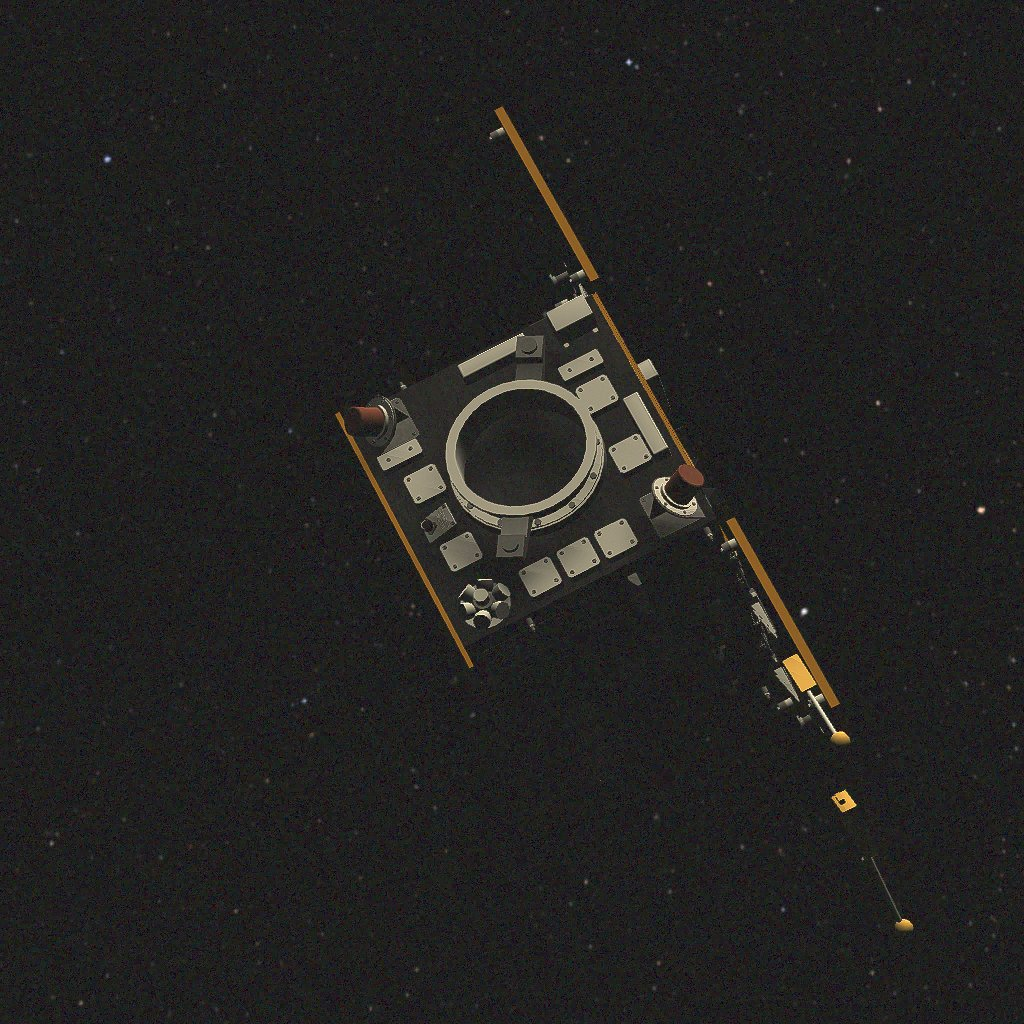proba_2: (335, 107, 913, 938)
